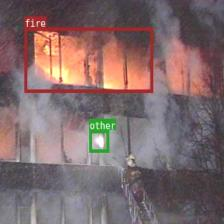fire: (24, 27, 152, 92)
